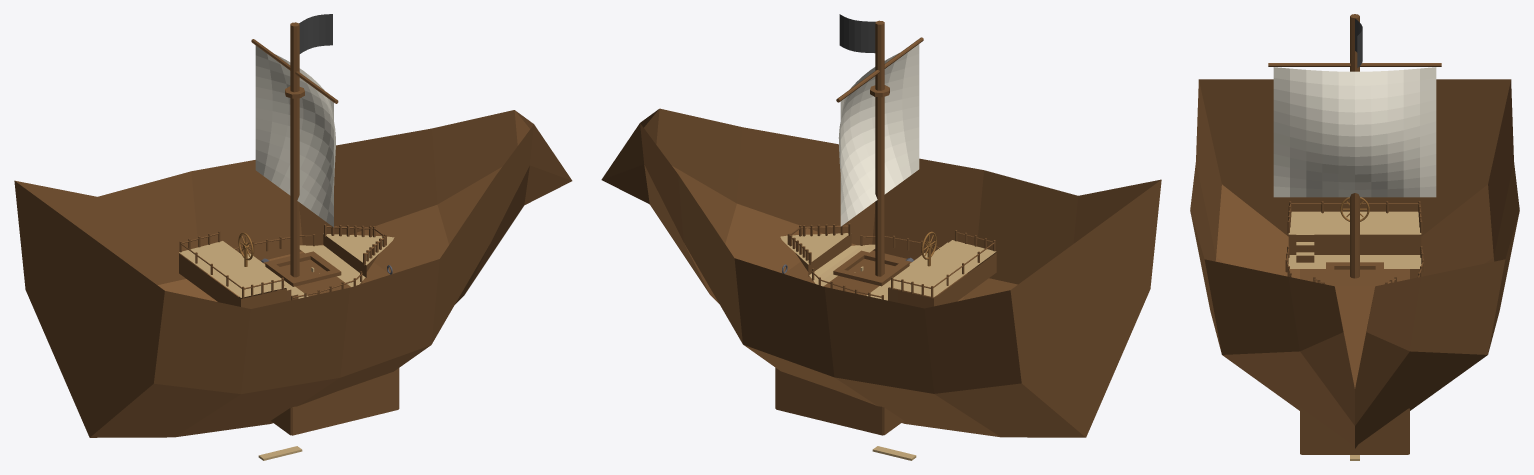
File: grotto_ship_LOD0_roblox.fbx
3 views of the same model, side by side, from view 1: azimuth 30°, elevation 25°; view 2: azimuth 150°, elevation 25°; view 3: azimuth 270°, elevation 25° (orthographic). The views are drawn at different scales.
Visible parts, largest first — view 1: Hull_M_Hull, Sail, ship_CargoWall_Stbd, Deck_Stern, Mast, Sterncastle, ship_CargoDeck_Ceiling, Deck_Main, ship_DeckHatch_Frame, Flag_Main, Deck_Bow; view 2: Hull_M_Hull, Sail, ship_CargoWall_Port, Deck_Stern, Mast, Sterncastle, ship_CargoDeck_Ceiling, Deck_Main, Flag_Main, ship_DeckHatch_Frame, Deck_Bow; view 3: Hull_M_Hull, Sail, ship_CargoWall_Bow, Deck_Stern, SC_FwdWall, Deck_Main, Mast, ship_CargoDeck_Ceiling, ship_DeckHatch_Frame, Yard, Stairs_Starboard_M_Hull.
Part boxes in pixels (<box>): Hull_M_Hull: <box>14,110,572,437</box>; Sail: <box>255,45,335,227</box>; ship_CargoWall_Stbd: <box>291,368,398,435</box>; Deck_Stern: <box>179,241,286,297</box>; Mast: <box>290,22,299,277</box>; Sterncastle: <box>179,253,286,308</box>; ship_CargoDeck_Ceiling: <box>263,253,389,296</box>; Deck_Main: <box>247,245,365,298</box>; ship_DeckHatch_Frame: <box>265,251,341,286</box>; Flag_Main: <box>299,14,332,53</box>; Deck_Bow: <box>323,233,394,265</box>; Hull_M_Hull: <box>601,108,1161,437</box>; Sail: <box>838,44,919,226</box>; ship_CargoWall_Port: <box>776,368,883,435</box>; Deck_Stern: <box>888,240,996,297</box>; Mast: <box>875,20,884,276</box>; Sterncastle: <box>888,252,996,308</box>; ship_CargoDeck_Ceiling: <box>785,252,911,295</box>; Deck_Main: <box>809,244,927,300</box>; Flag_Main: <box>839,14,875,53</box>; ship_DeckHatch_Frame: <box>833,250,909,286</box>; Deck_Bow: <box>780,233,848,264</box>; Hull_M_Hull: <box>1190,79,1519,448</box>; Sail: <box>1273,67,1436,197</box>; ship_CargoWall_Bow: <box>1301,408,1408,454</box>; Deck_Stern: <box>1288,211,1421,234</box>; SC_FwdWall: <box>1288,235,1421,254</box>; Deck_Main: <box>1288,255,1421,268</box>; Mast: <box>1350,14,1359,278</box>; ship_CargoDeck_Ceiling: <box>1302,269,1407,284</box>; ship_DeckHatch_Frame: <box>1326,262,1383,286</box>; Yard: <box>1268,63,1441,66</box>; Stairs_Starboard_M_Hull: <box>1296,235,1314,262</box>.
Size of the model in its own units: 20 by 11.4 by 16.88.
